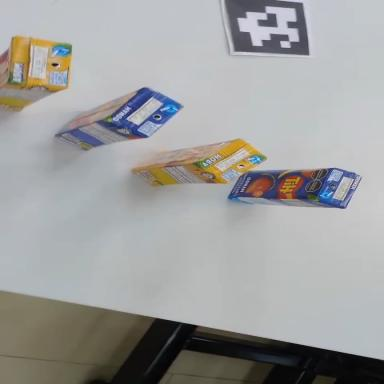HIT-MANGO: (51, 77, 188, 169), (229, 164, 361, 210)
HIT-MORA: (133, 138, 267, 187), (0, 35, 71, 115)
cara_F: (50, 88, 150, 135), (228, 168, 333, 201), (131, 139, 239, 169), (0, 36, 13, 87)
